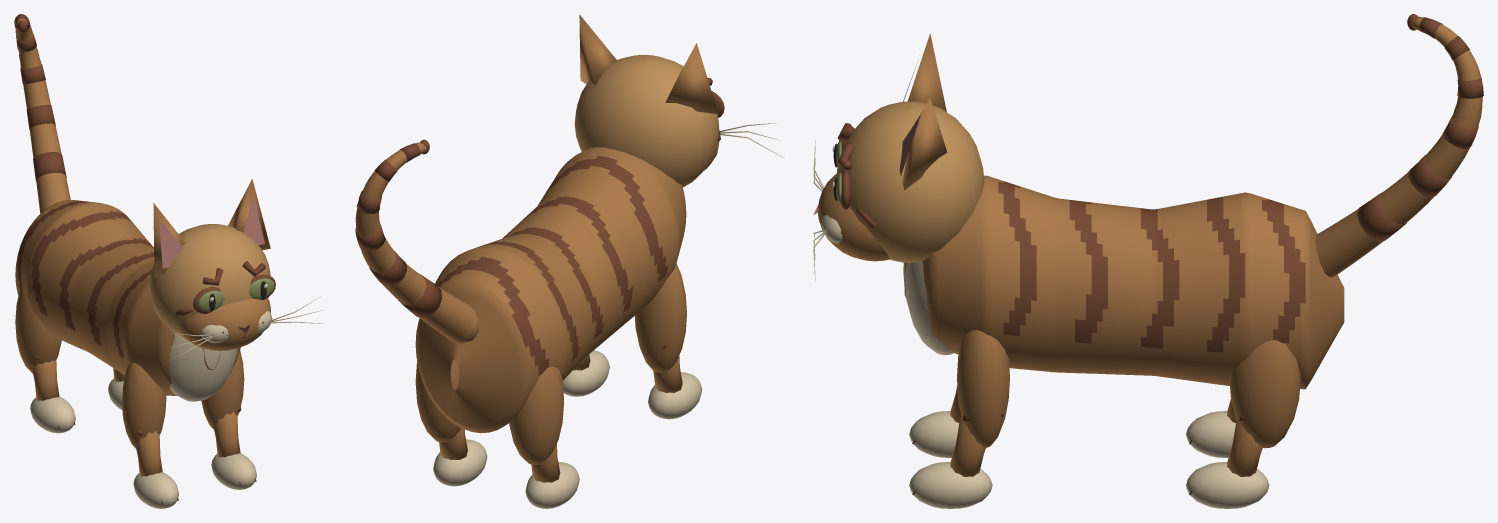
Rendered from cat.glb.
The picture shows the model from 3 angles, left to right: view 1: azimuth 30°, elevation 25°; view 2: azimuth 150°, elevation 25°; view 3: azimuth 270°, elevation 25°; orthographic projection. The views are drawn at different scales.
Visible parts, largest first — view 1: Cat_Body, Cat_Face, Tail_mesh, Leg_mesh, Leg_mesh.002, Leg_mesh.001, Ear_mesh.001, Ear_mesh, Leg_mesh.003; view 2: Cat_Body, Cat_Face, Tail_mesh, Leg_mesh, Leg_mesh.002, Leg_mesh.003, Ear_mesh, Ear_mesh.001, Leg_mesh.001; view 3: Cat_Body, Cat_Face, Tail_mesh, Leg_mesh.003, Leg_mesh.001, Ear_mesh.001, Leg_mesh, Leg_mesh.002, Ear_mesh.
Part boxes in pixels (bbox=[...]): Cat_Body: bbox=[15, 199, 240, 401]; Cat_Face: bbox=[149, 224, 323, 362]; Tail_mesh: bbox=[14, 14, 70, 213]; Leg_mesh: bbox=[122, 363, 179, 508]; Leg_mesh.002: bbox=[15, 289, 75, 433]; Leg_mesh.001: bbox=[201, 350, 256, 489]; Ear_mesh.001: bbox=[228, 179, 270, 250]; Ear_mesh: bbox=[153, 203, 185, 276]; Leg_mesh.003: bbox=[108, 368, 124, 409]; Cat_Body: bbox=[415, 147, 686, 433]; Cat_Face: bbox=[574, 55, 784, 187]; Tail_mesh: bbox=[355, 139, 479, 343]; Leg_mesh: bbox=[634, 264, 702, 419]; Leg_mesh.002: bbox=[509, 366, 579, 508]; Leg_mesh.003: bbox=[415, 359, 487, 486]; Ear_mesh: bbox=[665, 43, 718, 113]; Ear_mesh.001: bbox=[579, 14, 617, 85]; Leg_mesh.001: bbox=[562, 350, 609, 396]; Cat_Body: bbox=[903, 175, 1344, 389]; Cat_Face: bbox=[813, 101, 984, 280]; Tail_mesh: bbox=[1315, 14, 1483, 277]; Leg_mesh.003: bbox=[1186, 340, 1300, 508]; Leg_mesh.001: bbox=[909, 330, 1009, 508]; Ear_mesh.001: bbox=[899, 98, 947, 190]; Leg_mesh: bbox=[909, 385, 960, 457]; Leg_mesh.002: bbox=[1186, 399, 1236, 457]; Ear_mesh: bbox=[903, 33, 946, 111].
Bounding box in the file's own units: 0.4601 × 0.949 × 1.24.
